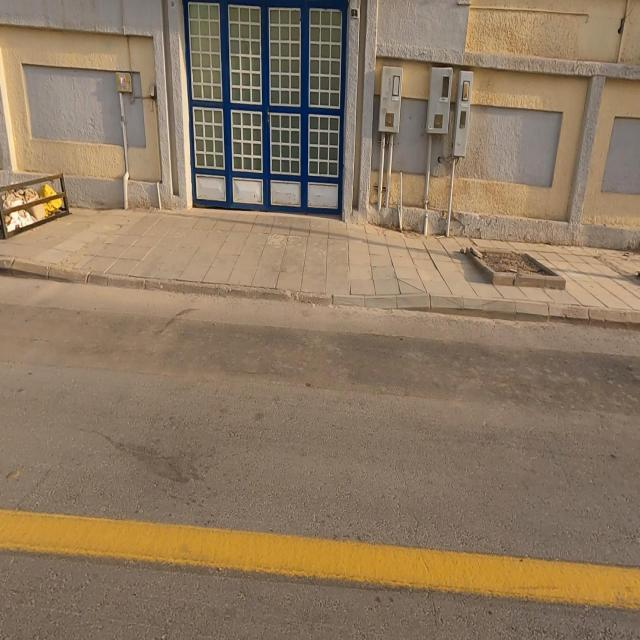debris: (0, 124, 107, 273)
